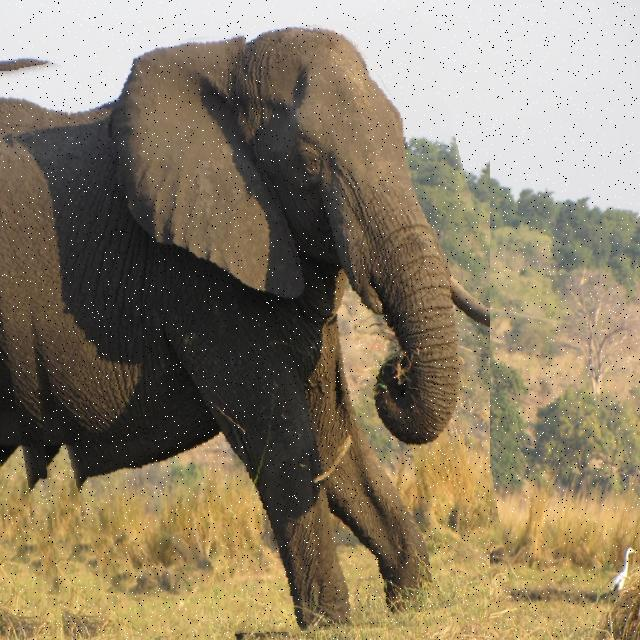elephant: (0, 21, 490, 640)
